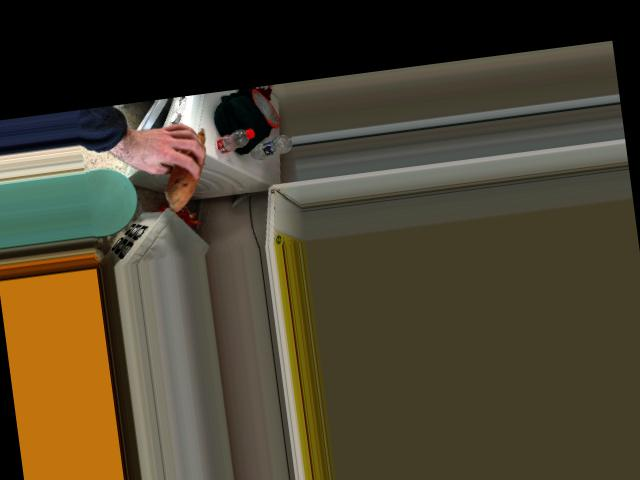sweet_potato: (157, 124, 214, 209)
